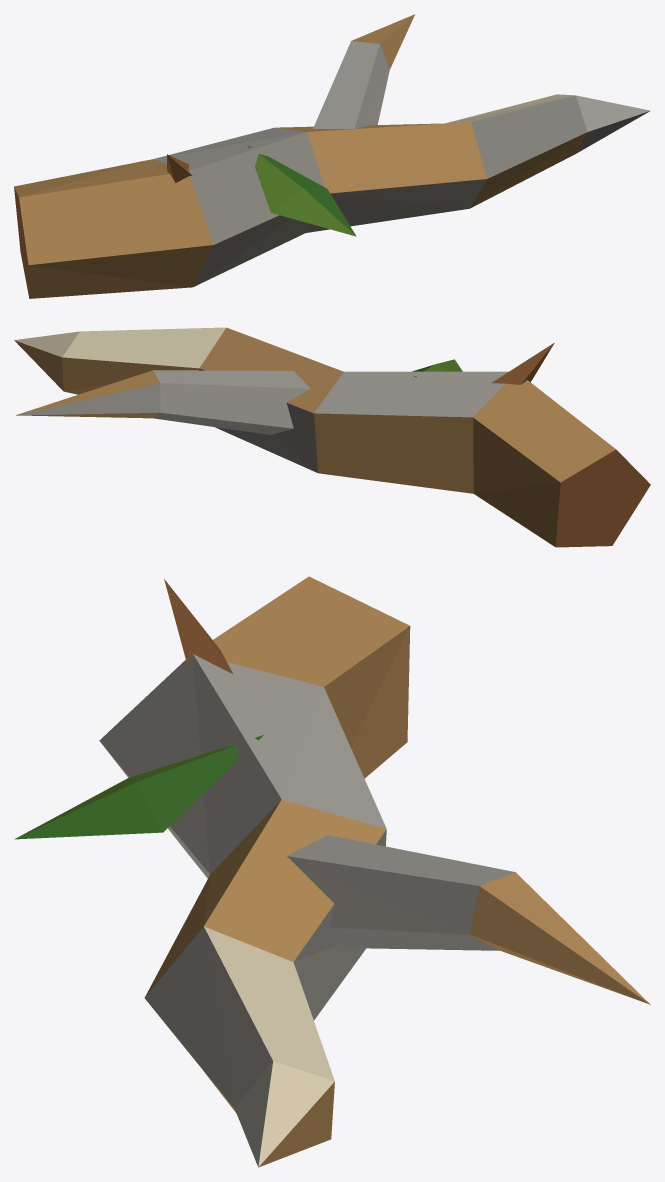
Rendered from driftwood.glb.
3 renders of one model, top to bottom at view 1: azimuth 30°, elevation 25°; view 2: azimuth 150°, elevation 25°; view 3: azimuth 270°, elevation 25°, orthographic. The views are drawn at different scales.
Parts seen in each view (by area): view 1: driftwood; view 2: driftwood; view 3: driftwood.
Boxes of the visible parts, left/top/right/bottom form: driftwood: left=14, top=14, right=650, bottom=298; driftwood: left=14, top=327, right=650, bottom=547; driftwood: left=14, top=576, right=650, bottom=1167.
Bounding box in the file's own units: 0.3993 × 0.0912 × 0.2093.
